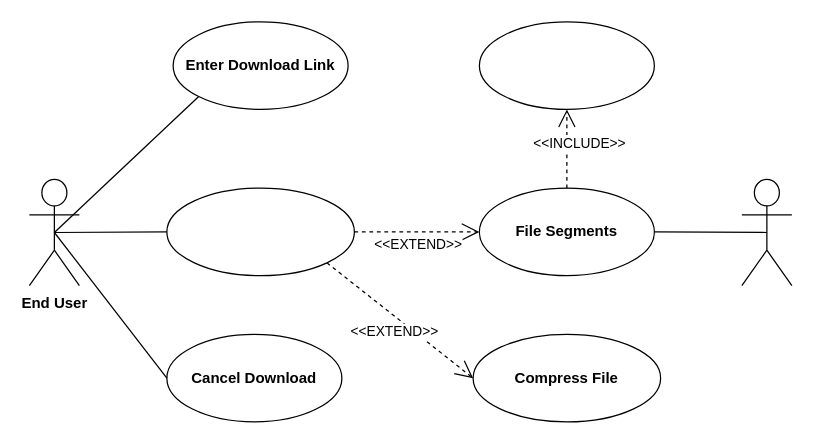
The diagram is 819 pixels wide and 444 high, and some of its shapes have lost their labels. Here are the shapes that lost their labels. From the top down, the centre of each, then its label:
At (566,65): "Validate Segment".
At (260,231): "Download File".
At (766,232): "Machine".
